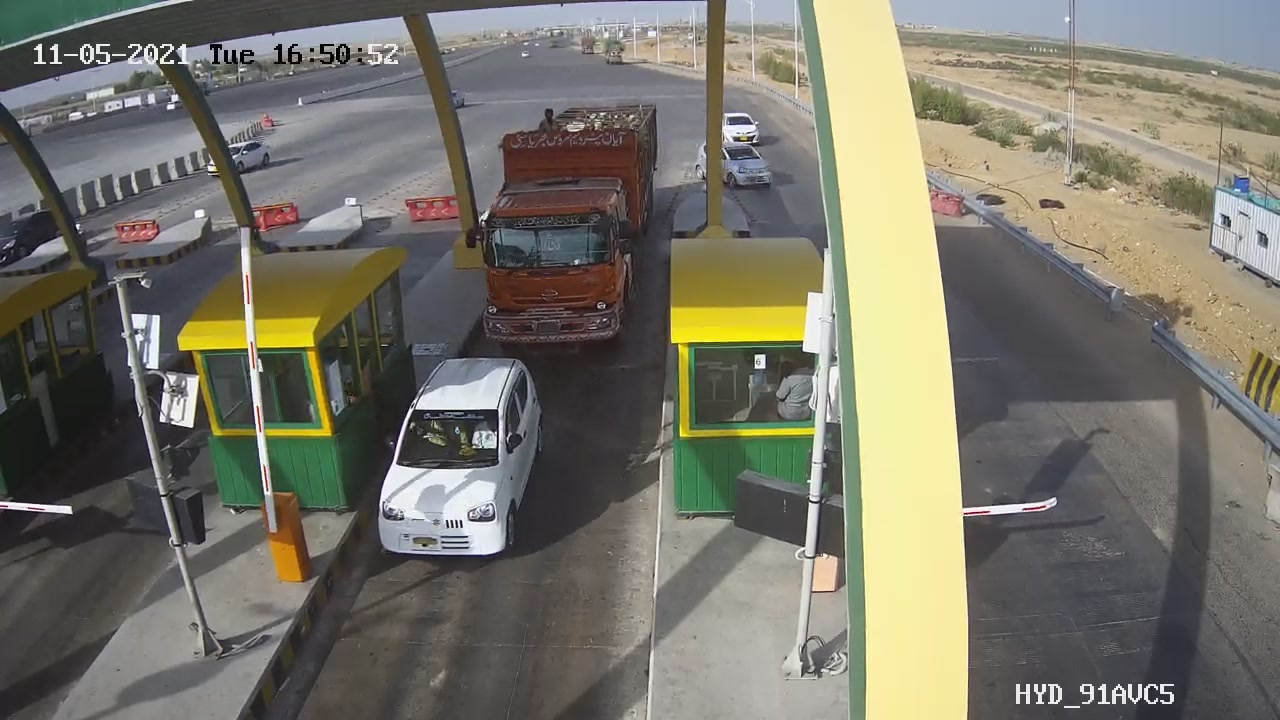F1: (349, 347, 572, 575)
F6: (474, 77, 668, 358)
